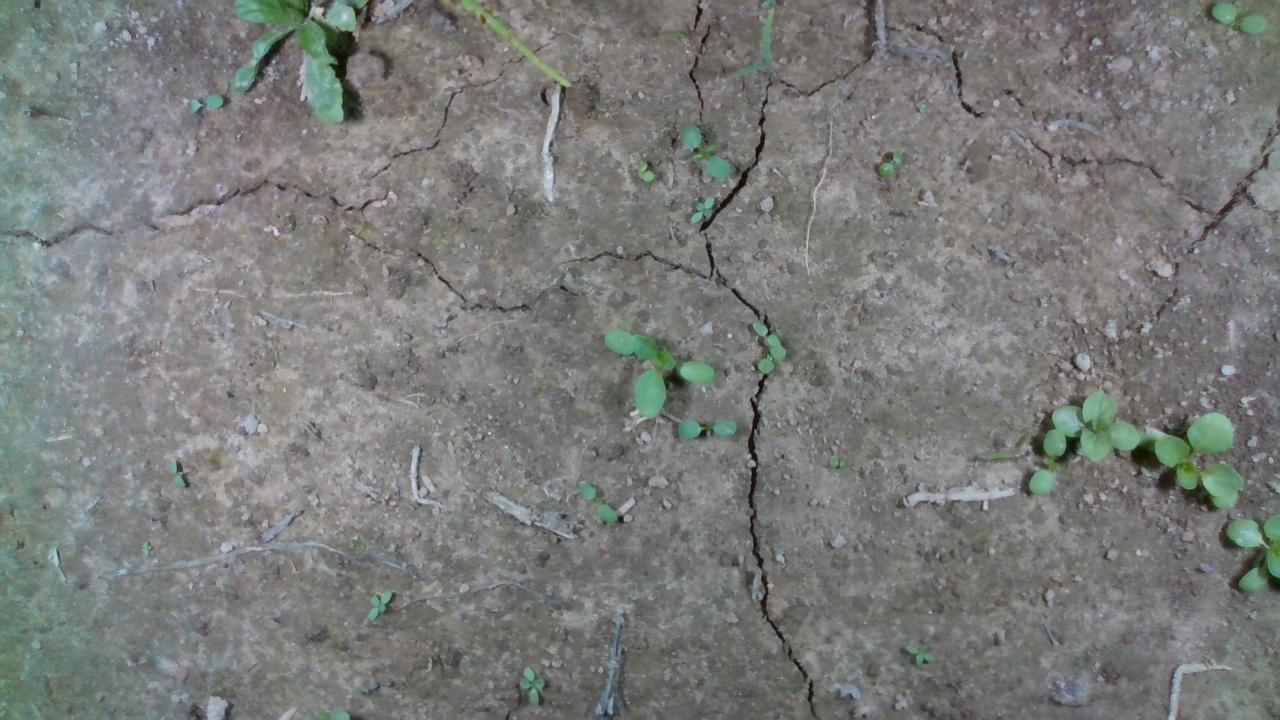weed: (674, 121, 736, 178), (573, 479, 626, 523), (181, 88, 227, 122), (509, 657, 548, 694), (674, 417, 735, 439), (687, 193, 717, 230), (873, 145, 900, 179), (904, 639, 939, 665), (823, 451, 851, 480), (362, 589, 394, 612), (632, 158, 656, 181)
